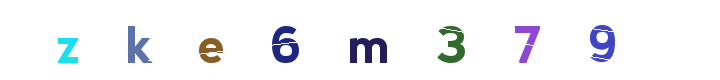3: (340, 0, 420, 80)
6: (320, 0, 400, 80)
7: (413, 0, 493, 80)
9: (489, 0, 569, 80)
E: (288, 0, 368, 80)
K: (182, 0, 262, 80)
M: (337, 0, 417, 80)
Z: (28, 0, 108, 80)
